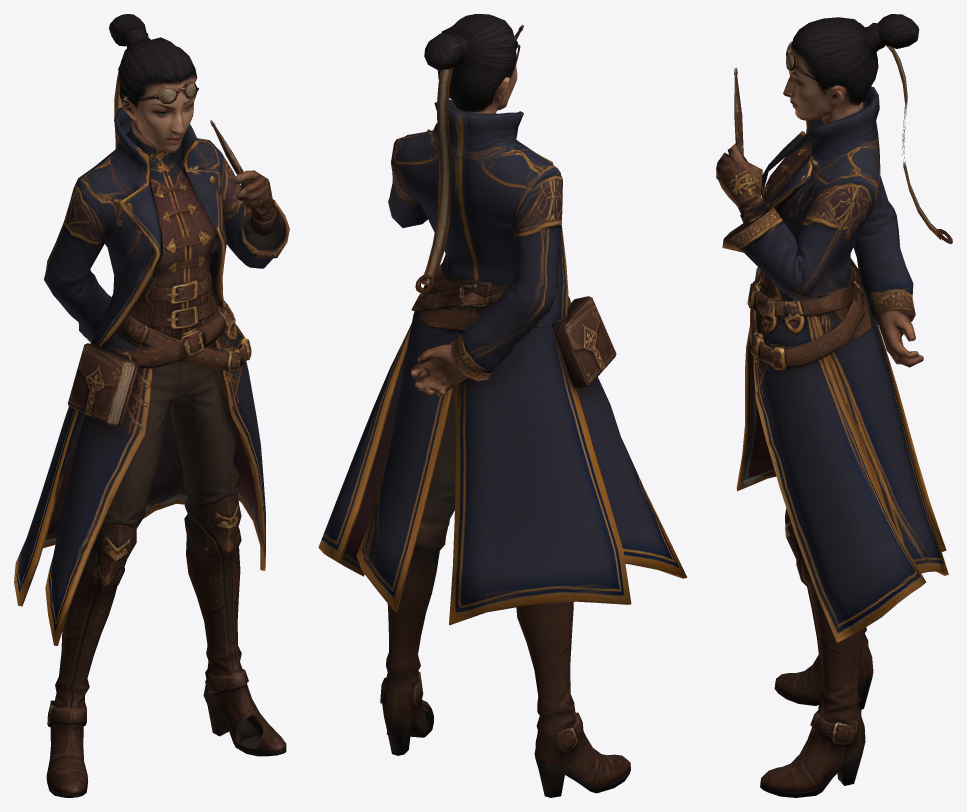
File: spec-tutor-4k.glb
3 views of the same model, side by side, from view 1: azimuth 30°, elevation 25°; view 2: azimuth 150°, elevation 25°; view 3: azimuth 270°, elevation 25° (orthographic). The views are drawn at different scales.
Parts seen in each view (by area): view 1: tripo_node_bf12348c-cbe9-4406-b8a3-adba44eaa410; view 2: tripo_node_bf12348c-cbe9-4406-b8a3-adba44eaa410; view 3: tripo_node_bf12348c-cbe9-4406-b8a3-adba44eaa410.
Boxes of the visible parts, x1,y1,x2,y2 form: tripo_node_bf12348c-cbe9-4406-b8a3-adba44eaa410: (14, 14, 289, 797); tripo_node_bf12348c-cbe9-4406-b8a3-adba44eaa410: (318, 14, 687, 797); tripo_node_bf12348c-cbe9-4406-b8a3-adba44eaa410: (716, 14, 952, 797).
Size of the model in its own units: 0.4009 by 0.9995 by 0.2925.
1 material, 1 textured.
